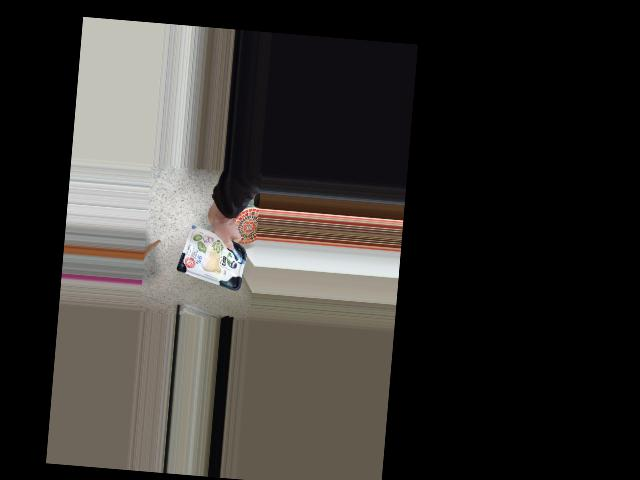cheese: (178, 224, 249, 291)
